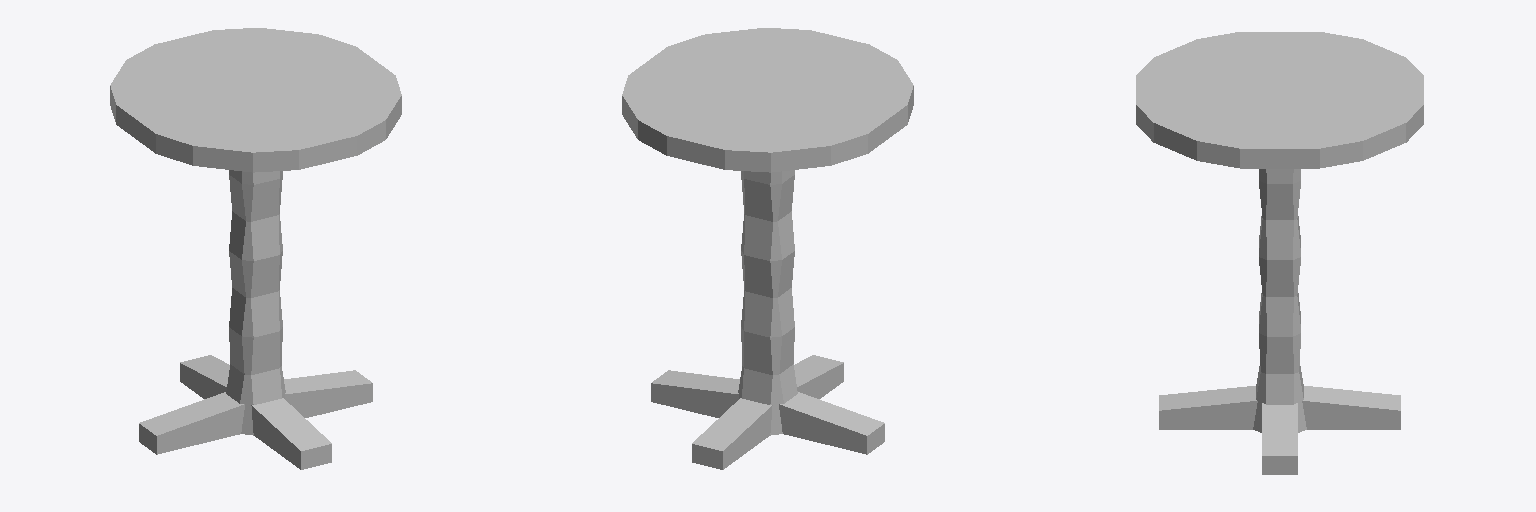
Rendered from Table_Circular.obj.
The picture shows the model from 3 angles: view 1: azimuth 30°, elevation 25°; view 2: azimuth 150°, elevation 25°; view 3: azimuth 270°, elevation 25°; orthographic projection.
Parts seen in each view (by area): view 1: Table_Circular; view 2: Table_Circular; view 3: Table_Circular.
Part boxes in pixels (left/top/right/bottom): Table_Circular: left=110, top=28, right=401, bottom=469; Table_Circular: left=622, top=28, right=913, bottom=469; Table_Circular: left=1136, top=32, right=1423, bottom=474.
Bounding box in the file's own units: 0.7193 × 0.9509 × 0.75.